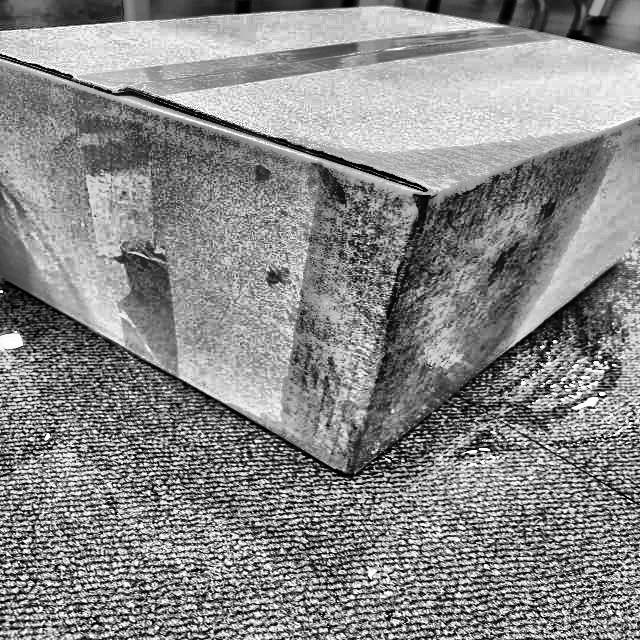box: (0, 3, 639, 482)
wet: (242, 129, 615, 469)
